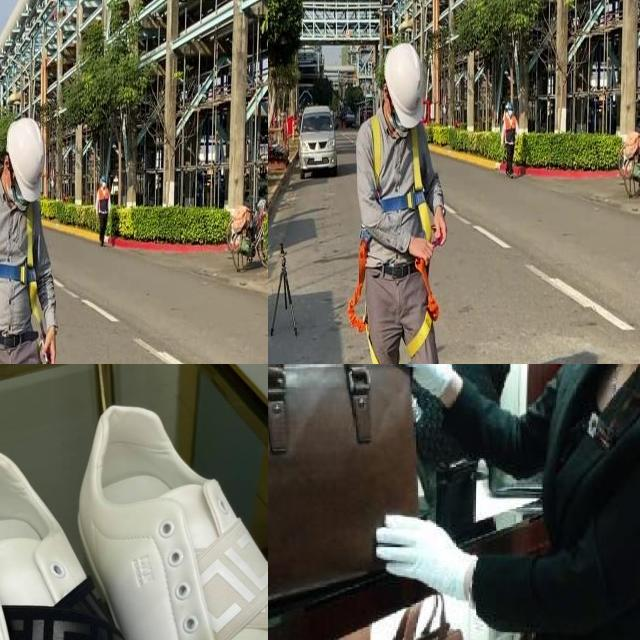Harness: (371, 116, 432, 240), (0, 204, 40, 322), (347, 235, 381, 364), (407, 259, 440, 360)
Sandals: (67, 390, 268, 640), (0, 424, 215, 640)
hand_glove: (373, 505, 468, 609), (369, 364, 455, 403)
